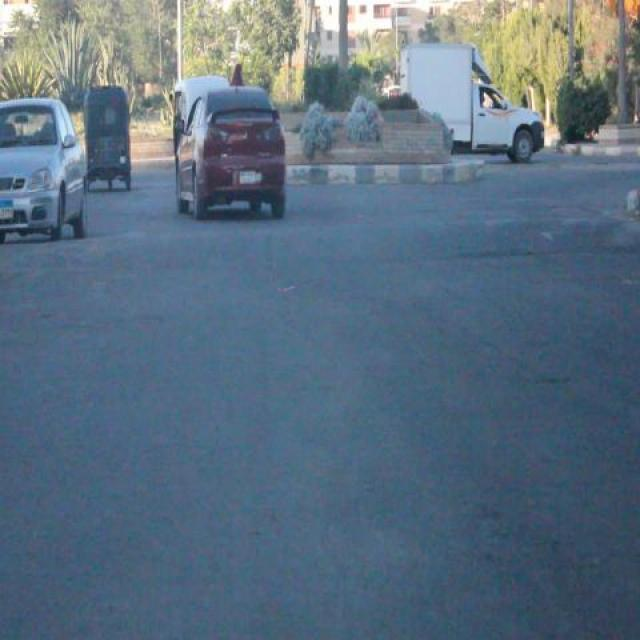Unmarked Bump: (1, 210, 639, 286)
